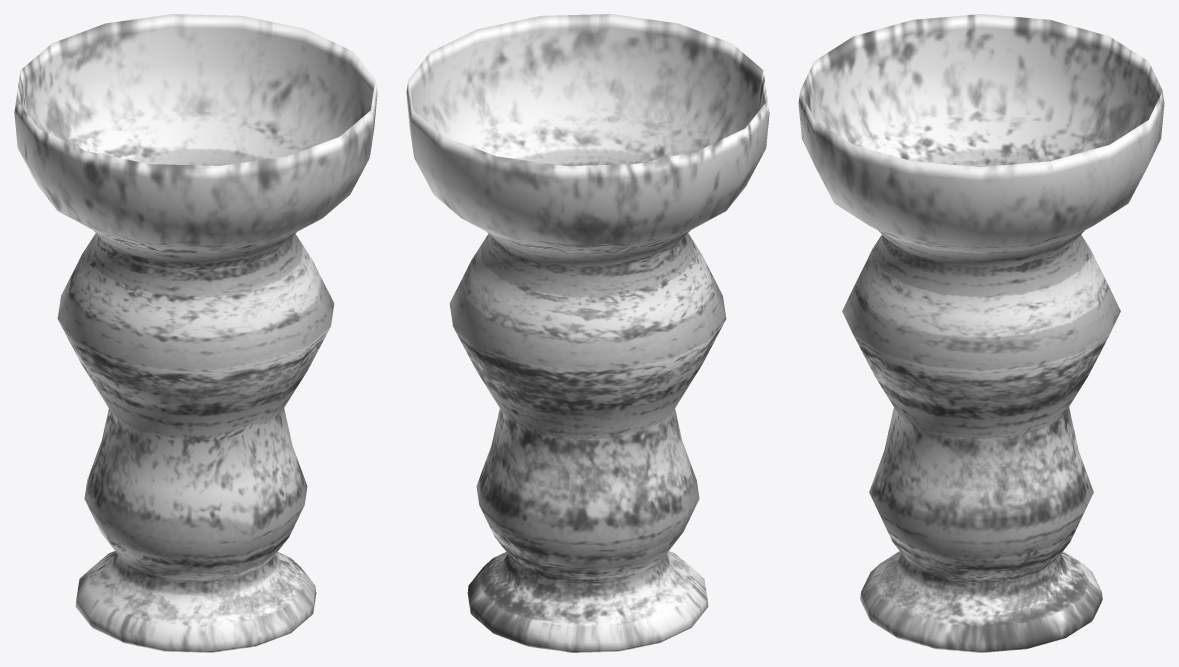
File: Vase2.fbx
3 views of the same model, side by side, from view 1: azimuth 30°, elevation 25°; view 2: azimuth 150°, elevation 25°; view 3: azimuth 270°, elevation 25° (orthographic).
Visible parts, largest first — view 1: Plane.004; view 2: Plane.004; view 3: Plane.004.
Part boxes in pixels (<box>): Plane.004: <box>14,14,377,652</box>; Plane.004: <box>406,14,769,652</box>; Plane.004: <box>798,14,1164,652</box>.
Size of the model in its own units: 0.4468 by 0.4468 by 0.6897.
Materials: 1 (1 with a texture image).
